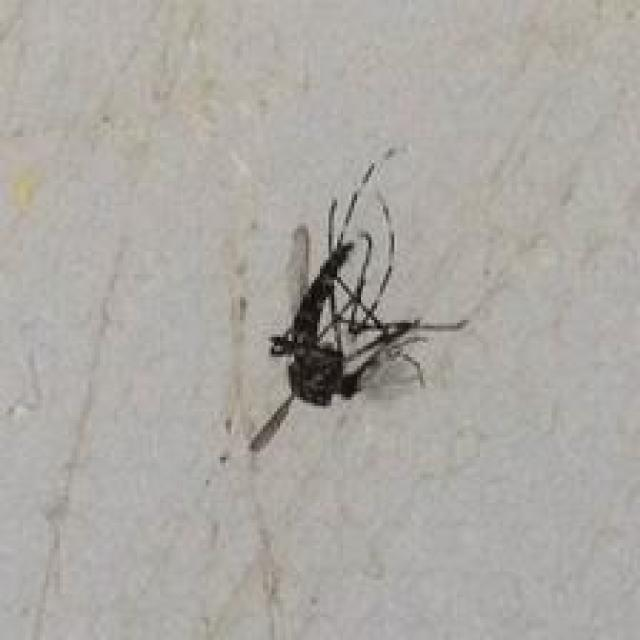Aedes albopictus: (243, 147, 468, 456)
